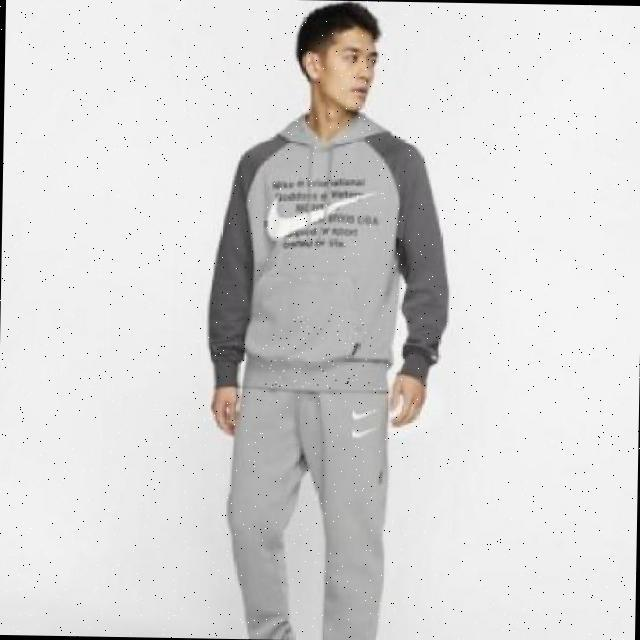Nike: (261, 314, 373, 389)
